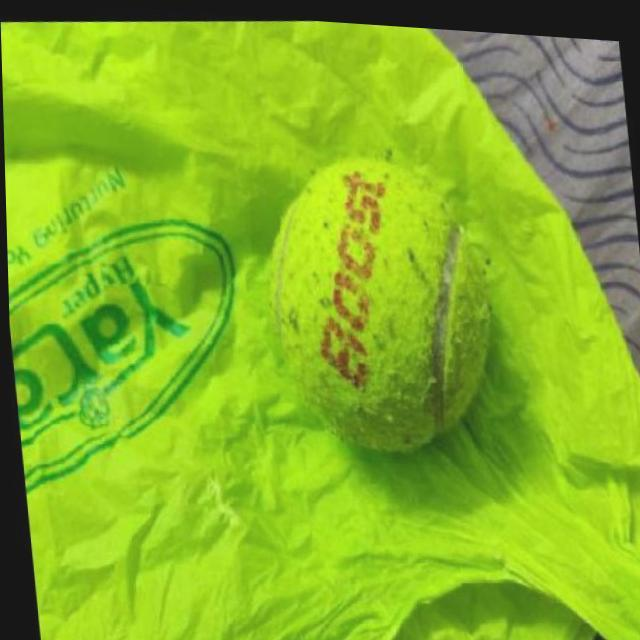-: (248, 133, 503, 464)
